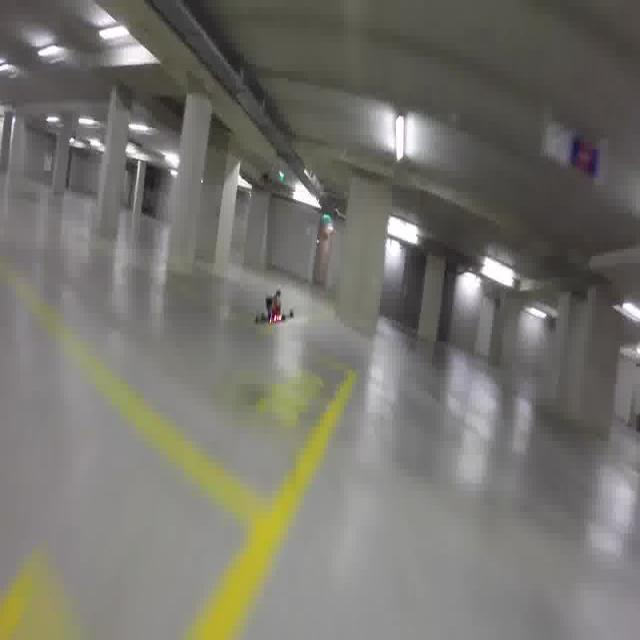drone: (254, 288, 296, 330)
